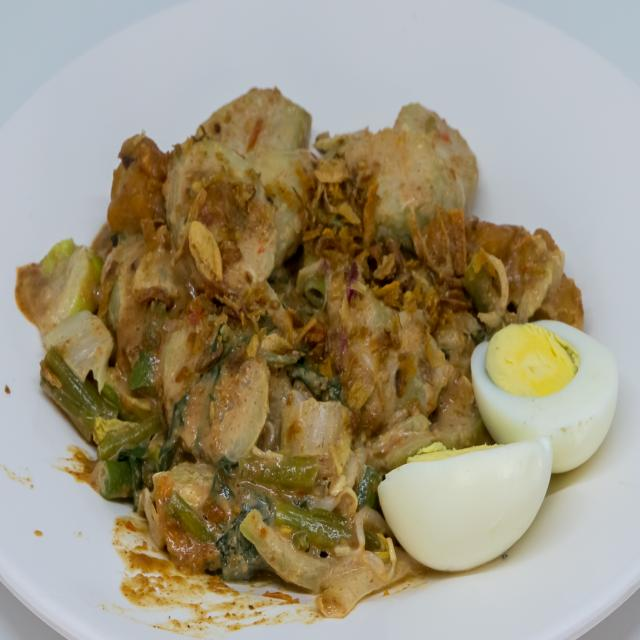Gado-Gado: (9, 67, 624, 623)
